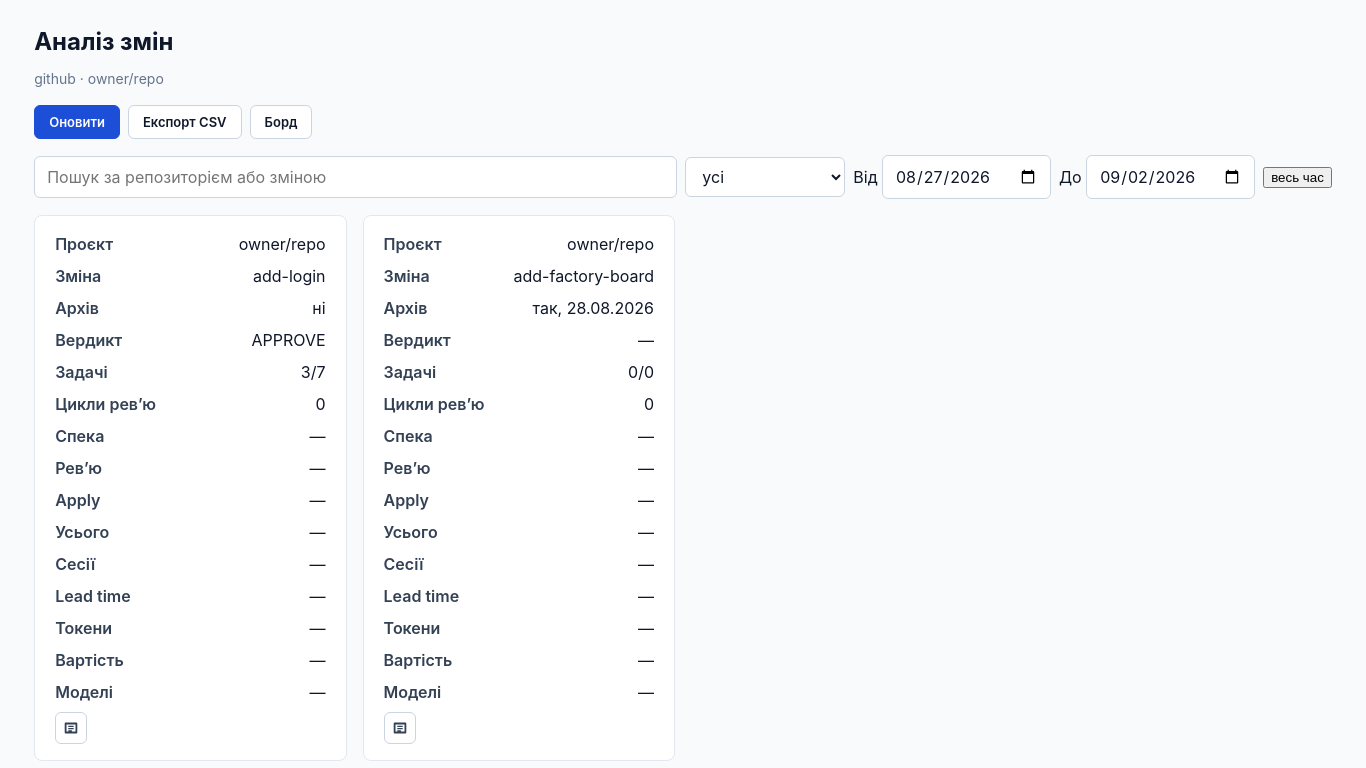
it: AnalysisView › loads skipped archives after clicking весь час
Expected: the text "old-change" is not shown
Click the button "весь час" at {"x": 1298, "y": 177}, box [1263,167,1332,188]
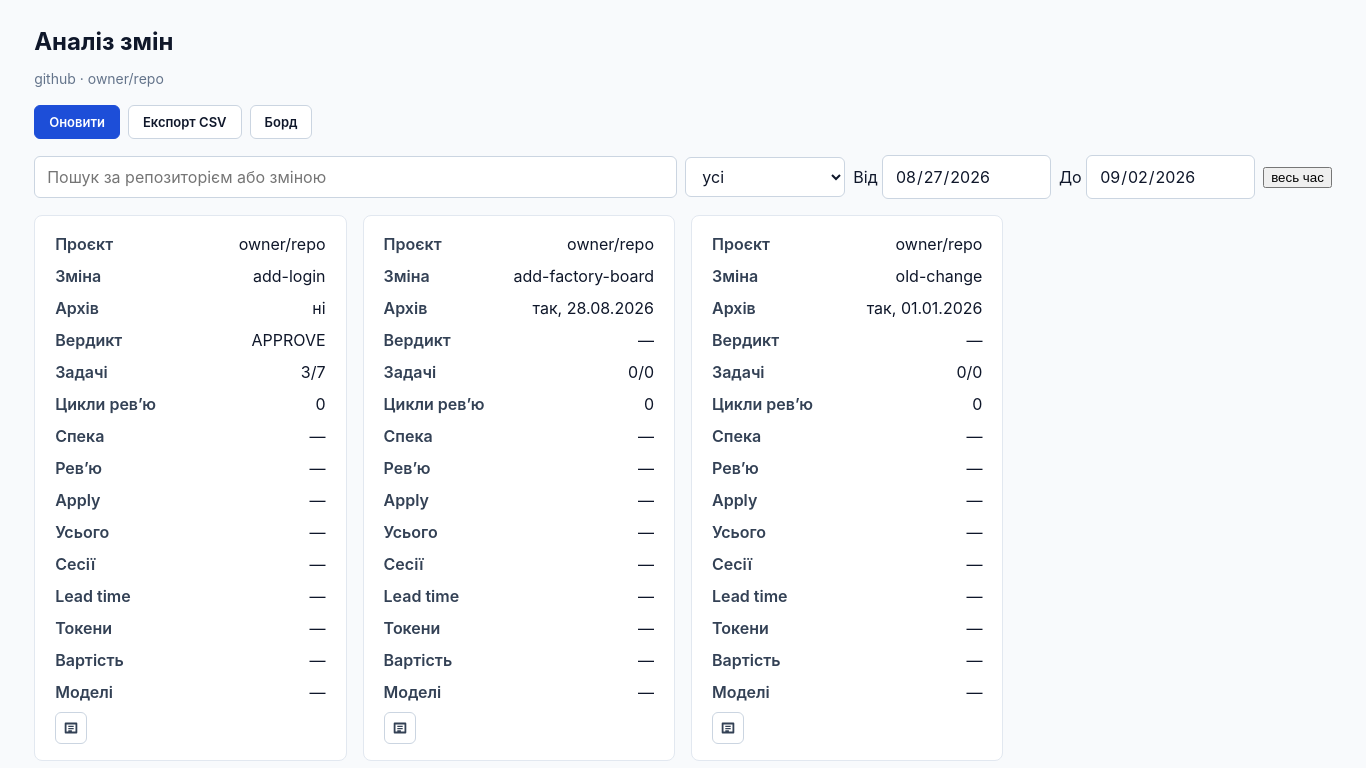
Now the text "old-change" is shown, box [896,264,982,288]
